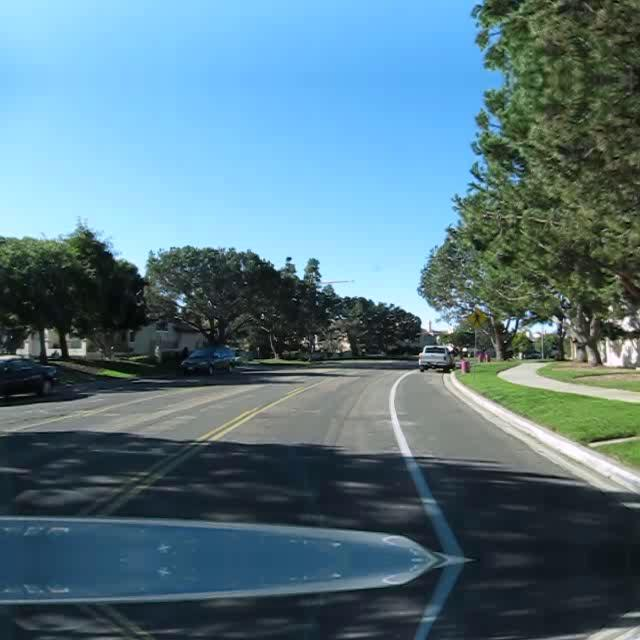pedestrianCrossing: (464, 306, 488, 328)
